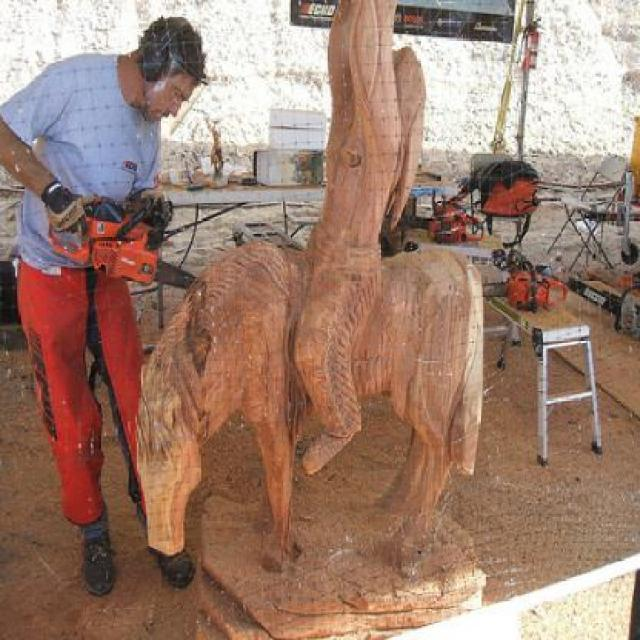Chainsaw: (46, 183, 199, 294)
